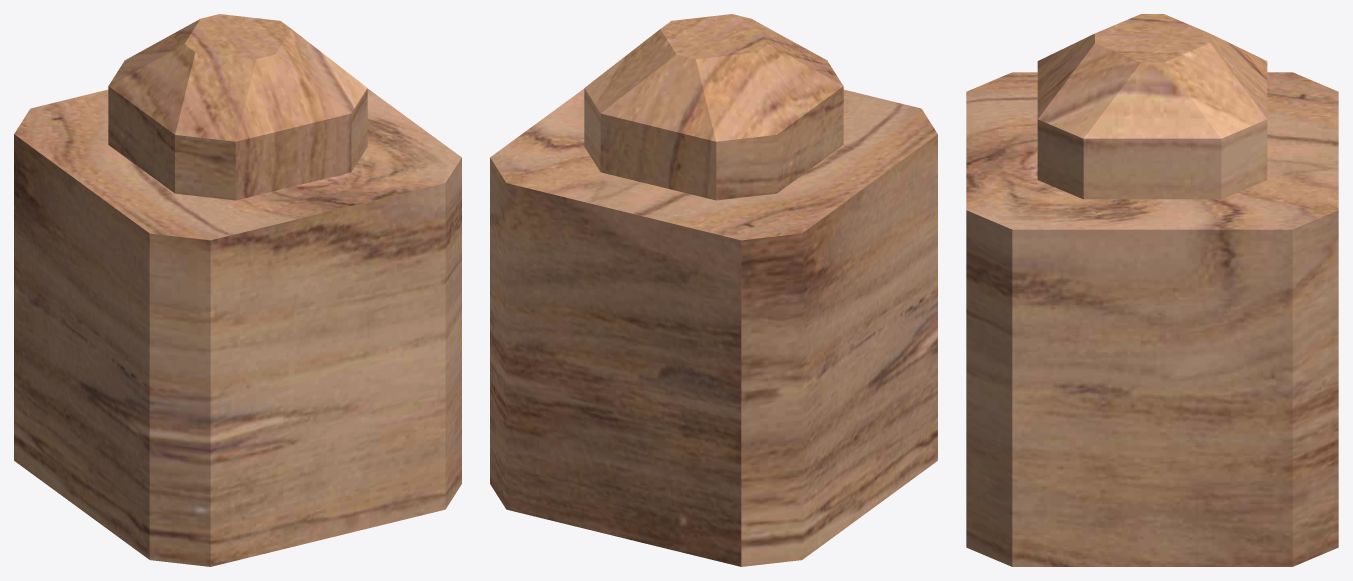
File: Preview.glb
3 renders of one model, left to right at view 1: azimuth 30°, elevation 25°; view 2: azimuth 150°, elevation 25°; view 3: azimuth 270°, elevation 25°, orthographic. The views are drawn at different scales.
Parts seen in each view (by area): view 1: pCube1; view 2: pCube1; view 3: pCube1.
Boxes of the visible parts, bbox=[...] form: pCube1: bbox=[14, 14, 461, 566]; pCube1: bbox=[490, 14, 937, 566]; pCube1: bbox=[966, 14, 1338, 566].
Size of the model in its own units: 1.73 by 2.31 by 1.73.
Materials: 1 (1 with a texture image).
